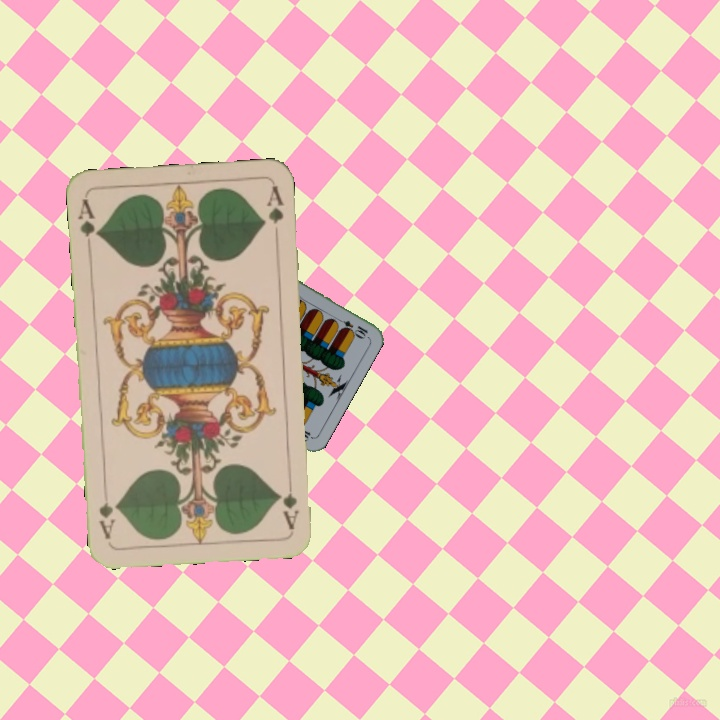E10: (331, 314, 370, 340)
GA: (74, 195, 103, 254), (279, 472, 302, 532)
